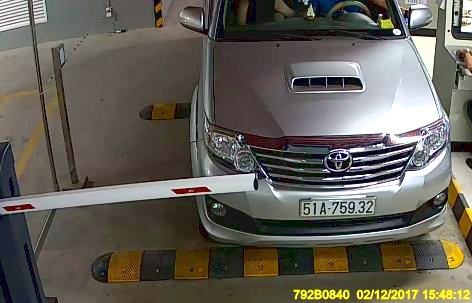plate: (298, 192, 375, 218)
